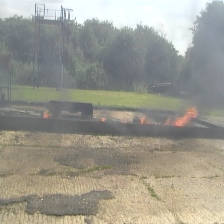fire_h: (175, 106, 199, 128), (164, 118, 169, 125)
fire_l: (140, 114, 145, 124), (43, 110, 48, 118), (101, 117, 105, 122)
